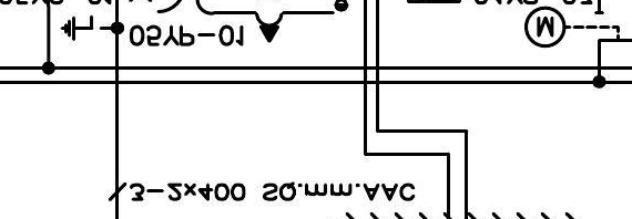115_gs: (59, 14, 104, 42)
